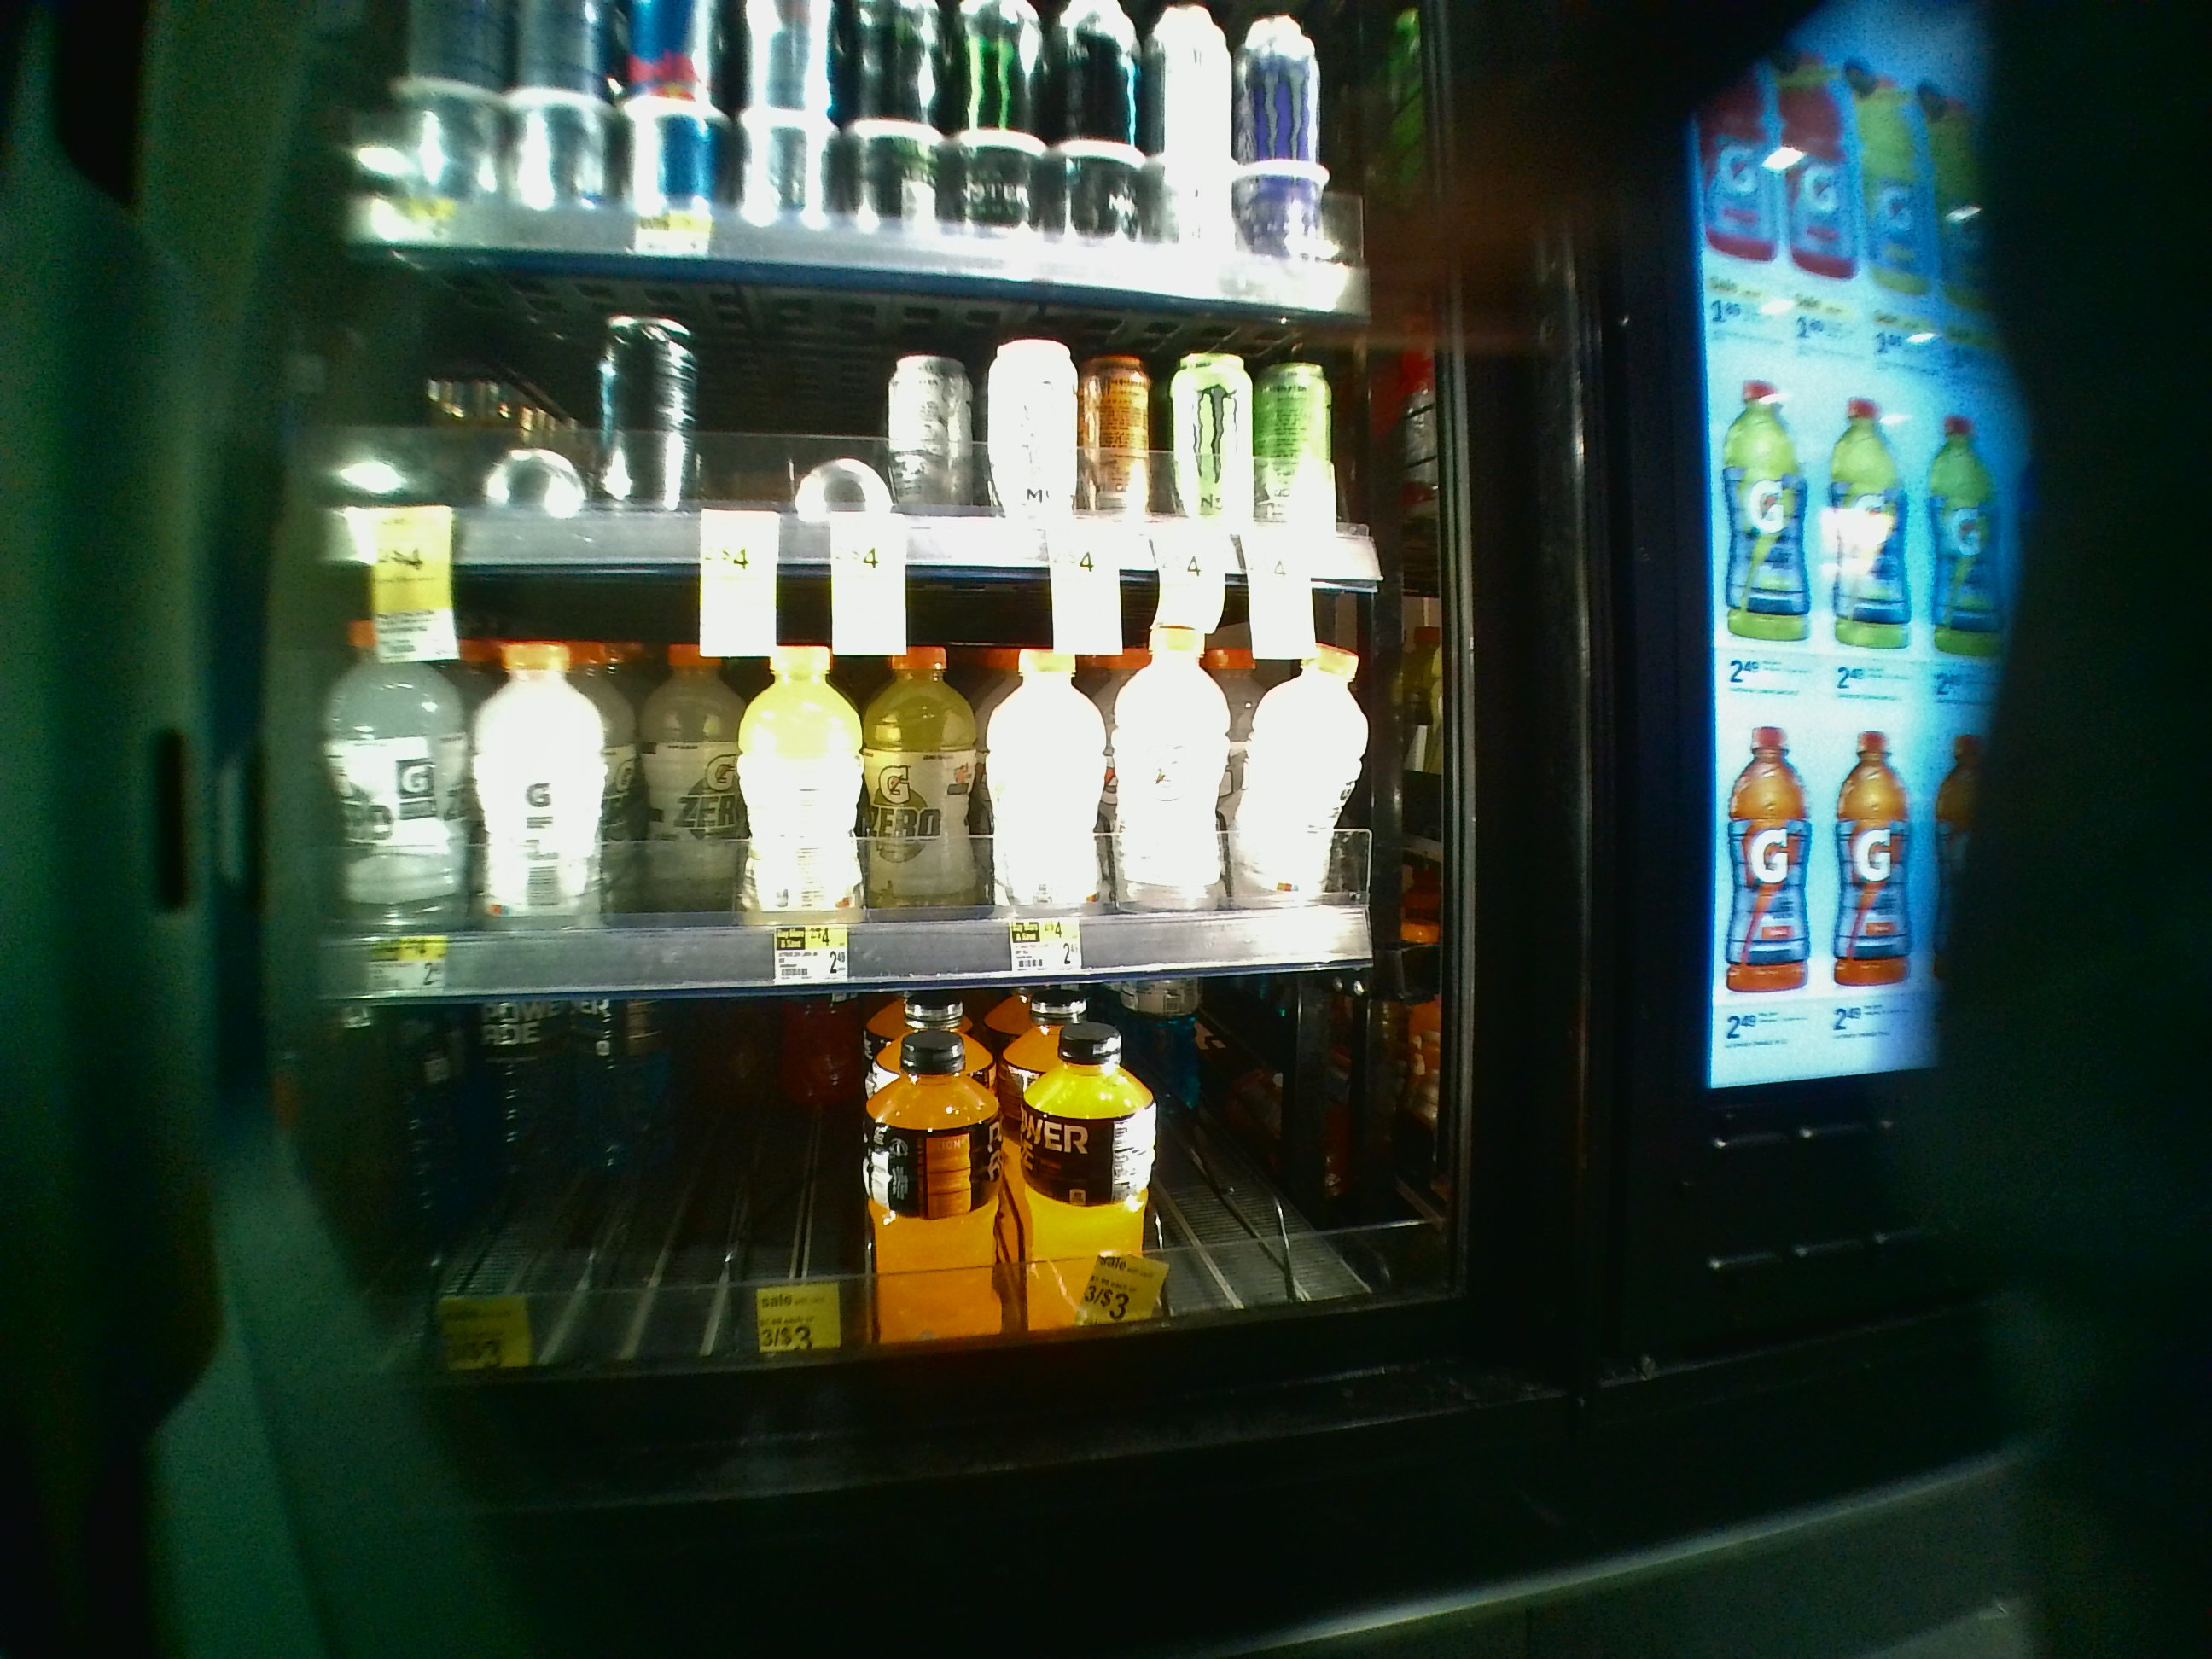shelf: (291, 563, 1449, 967)
